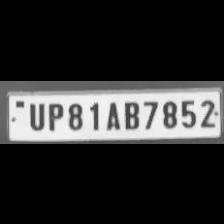1: (86, 98, 102, 130)
2: (196, 96, 218, 128)
5: (178, 96, 196, 128)
7: (140, 97, 158, 129)
8: (64, 99, 86, 130), (158, 96, 178, 128)
A: (102, 98, 120, 130)
B: (120, 97, 140, 129)
P: (44, 99, 64, 130)
U: (24, 98, 46, 130)
